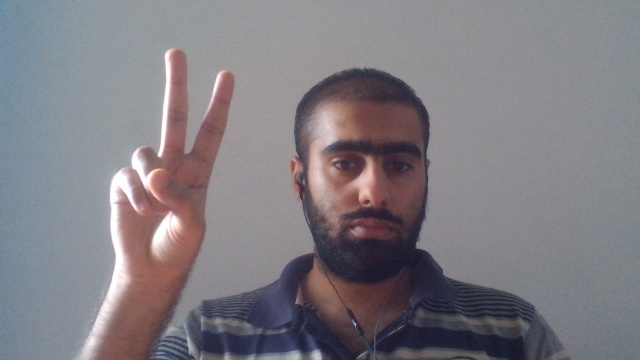scissors: (107, 47, 234, 277)
